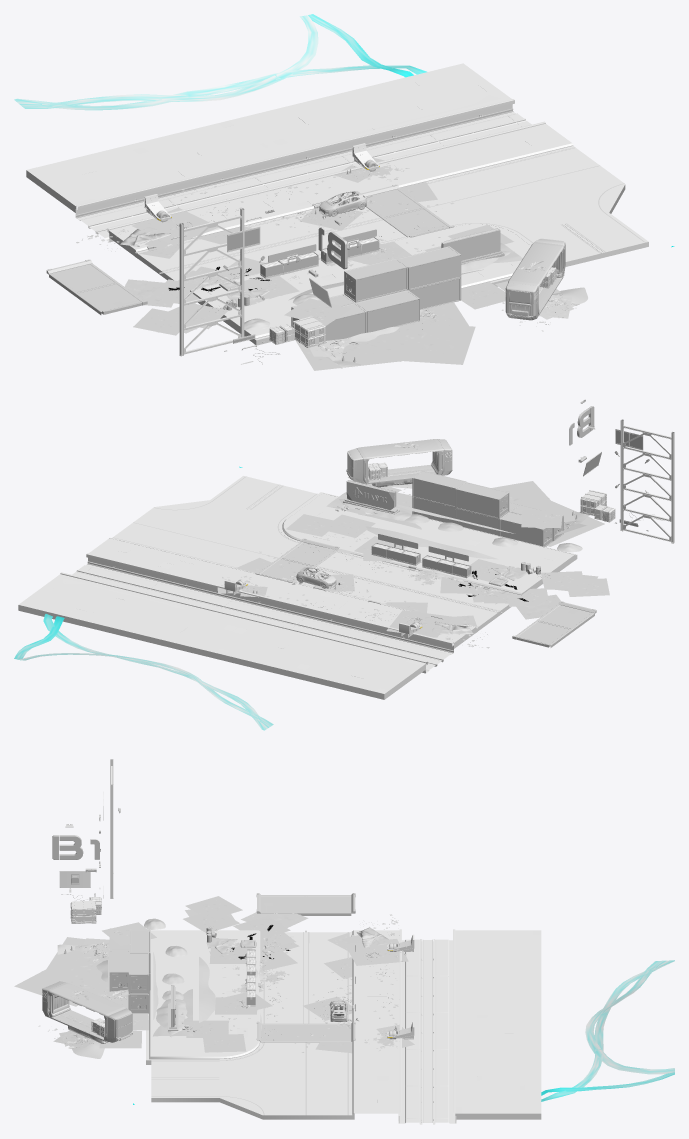
Rendered from cell_172_118.fbx.
3 renders of one model, top to bottom at view 1: azimuth 30°, elevation 25°; view 2: azimuth 150°, elevation 25°; view 3: azimuth 270°, elevation 25°, orthographic. The views are drawn at different scales.
Parts seen in each view (by area): view 1: SM_I_RoadFacility_Ground_B_09.mo, SpaceCenter_Long3_GenerateRoad_Sand_TireTracks_Width_Mesh_x., SM_H_FutureTech_Vehicle_DriverlessVans_01_Open.mo.012, SM_H_Building_FutureTech_PrintArea_ExterWall_01C.mo.001, SM_RoadFacility_Road_AsphaltRoad_512_01.mo.035, SM_DECOR_GrassDebris_Less_01_HD.mo.1742, SM_RoadFacility_Road_AsphaltRoad_512_01.mo.039, SM_H_Industrial_Container_02.mo.206, SM_H_Industrial_Container_02.mo.205, SM_DECOR_GrassDebris_Less_01_HD.mo.1750, SM_H_Industrial_Container_02.mo.266, SM_Branding_LocationSign_Wall_01.mo.003 (+20 smaller); view 2: SM_I_RoadFacility_Ground_B_09.mo, SM_H_FutureTech_Vehicle_DriverlessVans_01_Open.mo.012, SM_H_Building_FutureTech_PrintArea_ExterWall_01C.mo.001, SpaceCenter_Long3_GenerateRoad_Sand_TireTracks_Width_Mesh_x., SM_RoadFacility_Road_AsphaltRoad_512_01.mo.035, SM_RoadFacility_Road_AsphaltRoad_512_01.mo.039, SM_H_Industrial_Container_02.mo.206, SM_H_Industrial_Container_02.mo.205, SM_Branding_LocationSign_Wall_01.mo.003, SM_H_Industrial_Container_02.mo.181, SM_I_RoadFacility_Ground_B_02B.mo, SM_DECOR_GrassDebris_Less_01_HD.mo.1742 (+17 smaller); view 3: SM_I_RoadFacility_Ground_B_09.mo, SM_H_FutureTech_Vehicle_DriverlessVans_01_Open.mo.012, SpaceCenter_Long3_GenerateRoad_Sand_TireTracks_Width_Mesh_x., SM_RoadFacility_Road_AsphaltRoad_512_01.mo.035, SM_RoadFacility_Road_AsphaltRoad_512_01.mo.039, SM_DECOR_GrassDebris_Less_01_HD.mo.1742, SM_DECOR_GrassDebris_Less_01_HD.mo.1542, SM_I_RoadFacility_Ground_B_02B.mo, SM_H_Industrial_Container_02.mo.205, SM_H_Industrial_Container_02.mo.266, SM_DECOR_GrassDebris_Less_01_HD.mo.094, SM_I_Terrain_Road_Desert_Decal_Sand_02.mo.163 (+13 smaller).
Part boxes in pixels (<box>): SM_I_RoadFacility_Ground_B_09.mo: <box>26,63,648,345</box>; SpaceCenter_Long3_GenerateRoad_Sand_TireTracks_Width_Mesh_x.: <box>14,14,674,247</box>; SM_H_FutureTech_Vehicle_DriverlessVans_01_Open.mo.012: <box>505,238,565,320</box>; SM_H_Building_FutureTech_PrintArea_ExterWall_01C.mo.001: <box>179,208,244,356</box>; SM_RoadFacility_Road_AsphaltRoad_512_01.mo.035: <box>46,259,147,314</box>; SM_DECOR_GrassDebris_Less_01_HD.mo.1742: <box>373,326,475,364</box>; SM_RoadFacility_Road_AsphaltRoad_512_01.mo.039: <box>361,184,454,237</box>; SM_H_Industrial_Container_02.mo.206: <box>344,258,407,302</box>; SM_H_Industrial_Container_02.mo.205: <box>397,246,461,290</box>; SM_DECOR_GrassDebris_Less_01_HD.mo.1750: <box>396,302,472,338</box>; SM_H_Industrial_Container_02.mo.266: <box>356,290,419,332</box>; SM_Branding_LocationSign_Wall_01.mo.003: <box>441,228,504,264</box>; SM_I_RoadFacility_Ground_B_09.mo: <box>18,476,577,699</box>; SM_H_FutureTech_Vehicle_DriverlessVans_01_Open.mo.012: <box>346,439,452,484</box>; SM_H_Building_FutureTech_PrintArea_ExterWall_01C.mo.001: <box>620,419,674,543</box>; SpaceCenter_Long3_GenerateRoad_Sand_TireTracks_Width_Mesh_x.: <box>14,466,273,730</box>; SM_RoadFacility_Road_AsphaltRoad_512_01.mo.035: <box>512,601,596,647</box>; SM_RoadFacility_Road_AsphaltRoad_512_01.mo.039: <box>255,538,339,582</box>; SM_H_Industrial_Container_02.mo.206: <box>455,482,509,518</box>; SM_H_Industrial_Container_02.mo.205: <box>412,470,466,507</box>; SM_Branding_LocationSign_Wall_01.mo.003: <box>343,480,399,514</box>; SM_H_Industrial_Container_02.mo.181: <box>499,512,553,546</box>; SM_I_RoadFacility_Ground_B_02B.mo: <box>113,476,500,626</box>; SM_DECOR_GrassDebris_Less_01_HD.mo.1742: <box>491,481,559,510</box>; SM_I_RoadFacility_Ground_B_09.mo: <box>146,929,541,1124</box>; SM_H_FutureTech_Vehicle_DriverlessVans_01_Open.mo.012: <box>42,981,132,1042</box>; SpaceCenter_Long3_GenerateRoad_Sand_TireTracks_Width_Mesh_x.: <box>133,960,674,1104</box>; SM_RoadFacility_Road_AsphaltRoad_512_01.mo.035: <box>256,893,355,915</box>; SM_RoadFacility_Road_AsphaltRoad_512_01.mo.039: <box>256,1021,355,1042</box>; SM_DECOR_GrassDebris_Less_01_HD.mo.1742: <box>14,960,109,1006</box>; SM_DECOR_GrassDebris_Less_01_HD.mo.1542: <box>344,939,408,965</box>; SM_I_RoadFacility_Ground_B_02B.mo: <box>151,932,348,1115</box>; SM_H_Industrial_Container_02.mo.205: <box>129,952,148,994</box>; SM_H_Industrial_Container_02.mo.266: <box>109,950,129,991</box>; SM_DECOR_GrassDebris_Less_01_HD.mo.094: <box>185,896,242,920</box>; SM_I_Terrain_Road_Desert_Decal_Sand_02.mo.163: <box>199,957,215,1022</box>.
Size of the model in its own units: 62.47 by 18.49 by 78.06.
